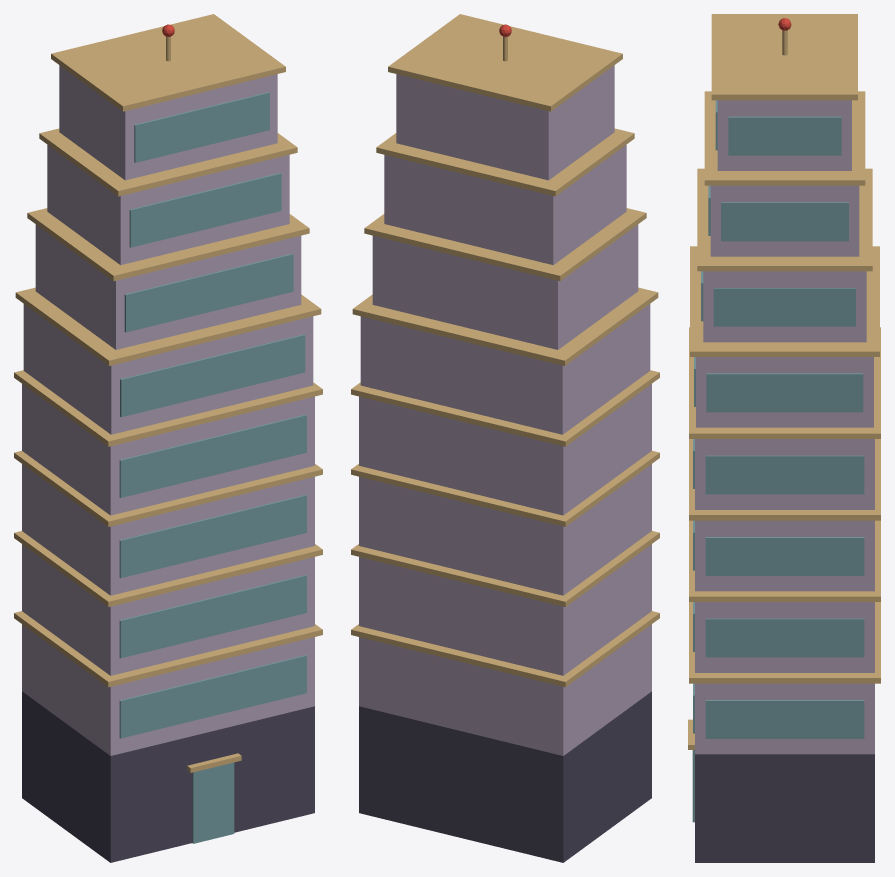
3 renders of one model, left to right at view 1: azimuth 30°, elevation 25°; view 2: azimuth 150°, elevation 25°; view 3: azimuth 270°, elevation 25°, orthographic.
Parts seen in each view (by area): view 1: RC-002 Stepped brass office tower batched; view 2: RC-002 Stepped brass office tower batched; view 3: RC-002 Stepped brass office tower batched.
Part boxes in pixels (x1,y1,x2,y2): RC-002 Stepped brass office tower batched: (14,14,322,862); RC-002 Stepped brass office tower batched: (351,14,659,862); RC-002 Stepped brass office tower batched: (688,14,880,862).
Size of the model in its own units: 8.4 by 29.22 by 6.43.
